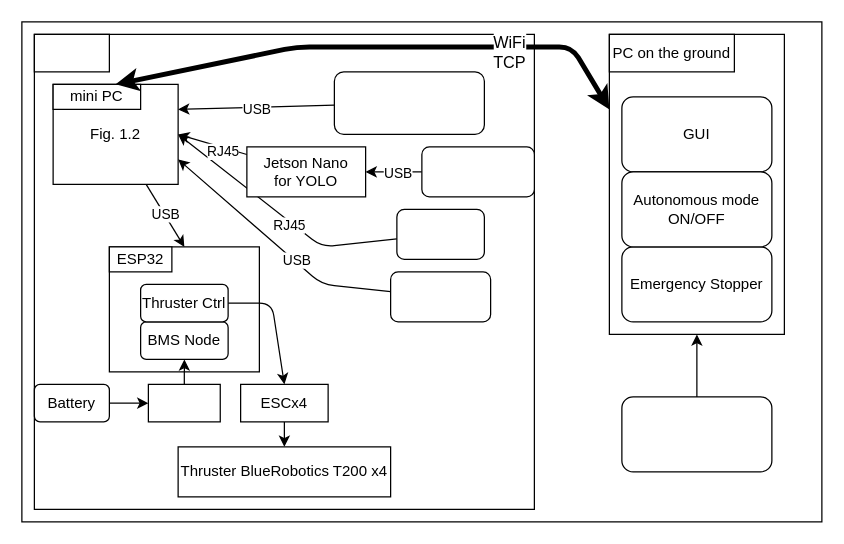
The diagram is 844 pixels wide and 544 high, and some of its shapes have lost their labels. Each missing label, with the centre of its shape:
9axis IMU: the point at 440,296
BMS: the point at 183,402
Camera x 2: the point at 477,171
Dual Anntena GNSS: the point at 408,102
LiDAR: the point at 440,233
Self Static GNSS: the point at 696,434
Vessel: the point at 71,52
